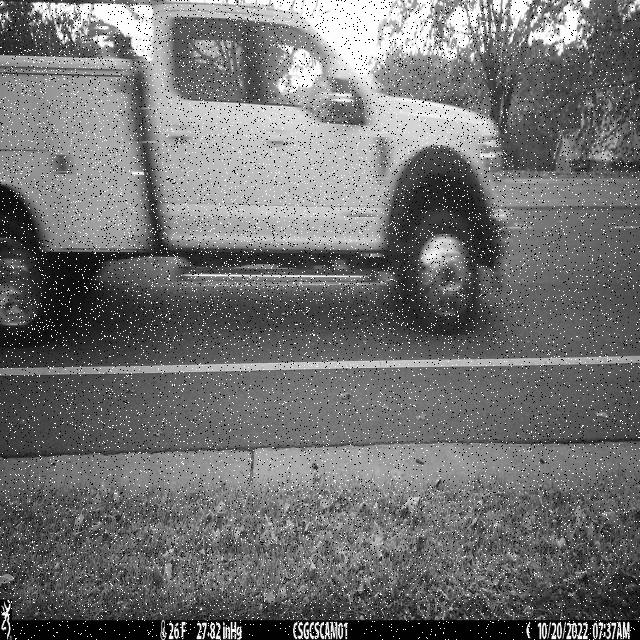Pickup- Utility: (0, 2, 513, 345)
